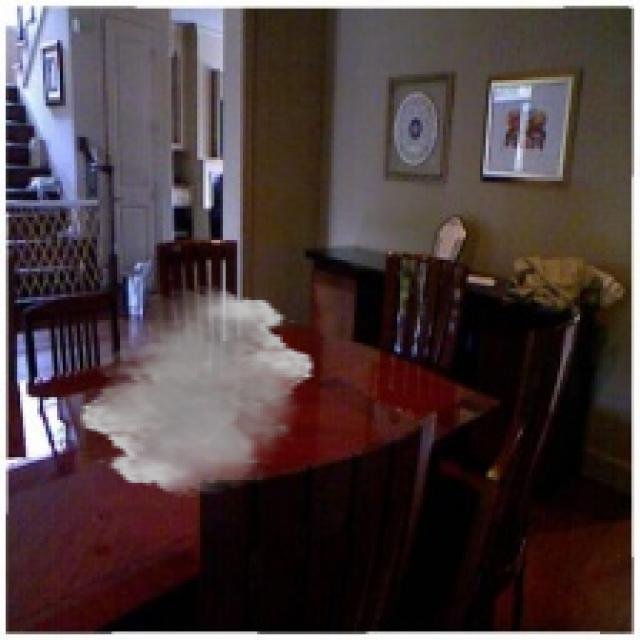Smoke: (77, 286, 317, 497)
